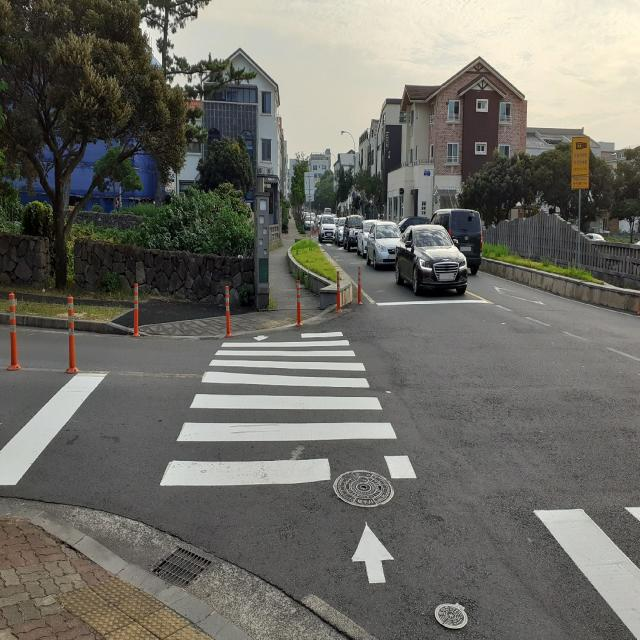횡단보도: (160, 332, 416, 583)
